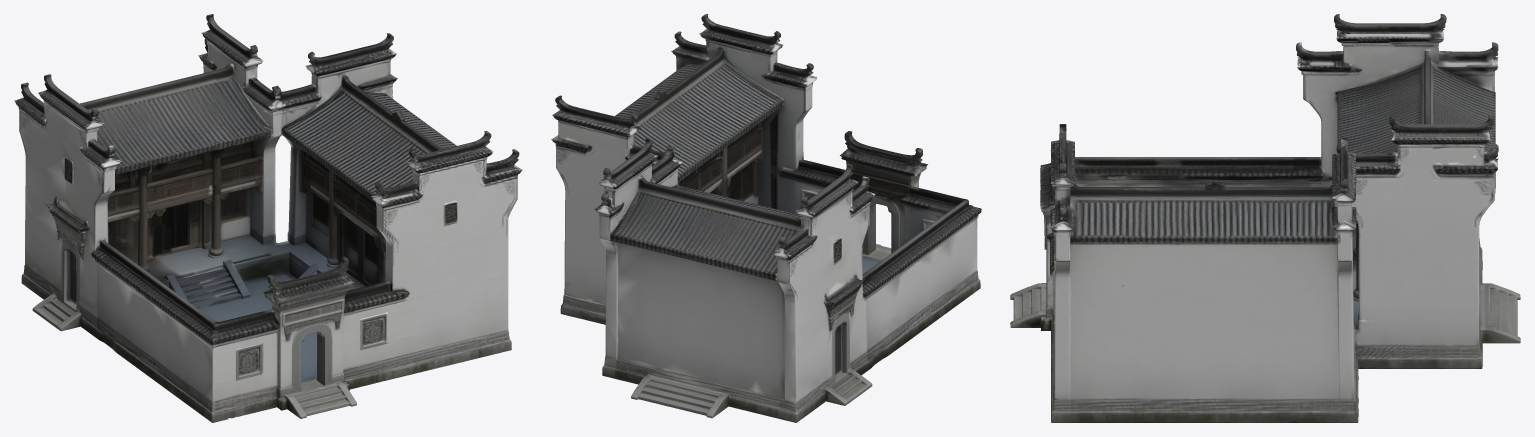
The model's file is 徽派民居3D图.glb.
3 views of the same model, side by side, from view 1: azimuth 30°, elevation 25°; view 2: azimuth 150°, elevation 25°; view 3: azimuth 270°, elevation 25° (orthographic). The views are drawn at different scales.
Parts seen in each view (by area): view 1: node_0; view 2: node_0; view 3: node_0.
Boxes of the visible parts, x1,y1,x2,y2 form: node_0: [14, 14, 522, 422]; node_0: [551, 14, 981, 422]; node_0: [1010, 14, 1520, 422].
Bounding box in the file's own units: 0.8011 × 0.5082 × 0.9479.
1 material, 1 textured.
